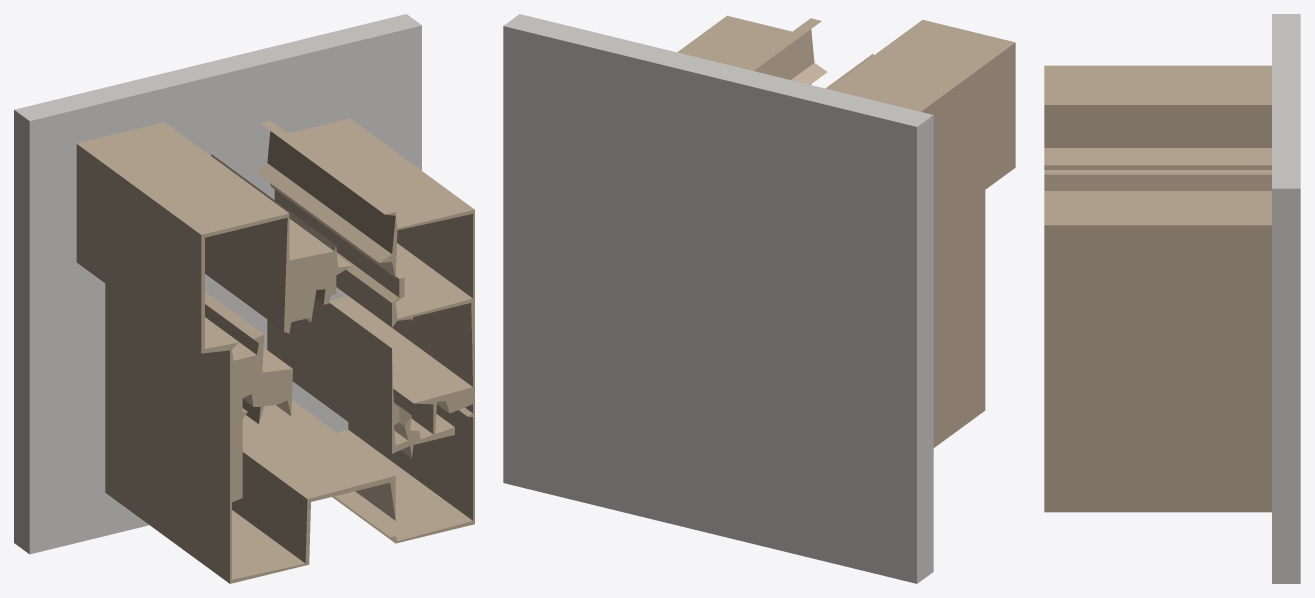
Rendered from download.glb.
The picture shows the model from 3 angles, left to right: view 1: azimuth 30°, elevation 25°; view 2: azimuth 150°, elevation 25°; view 3: azimuth 270°, elevation 25°; orthographic projection. The views are drawn at different scales.
Visible parts, largest first — view 1: world; view 2: world; view 3: world.
Boxes of the visible parts, bbox=[...] form: world: bbox=[14, 14, 474, 583]; world: bbox=[503, 14, 1015, 583]; world: bbox=[1044, 14, 1300, 583].
Size of the model in its own units: 2.18 by 2.3 by 1.35.
